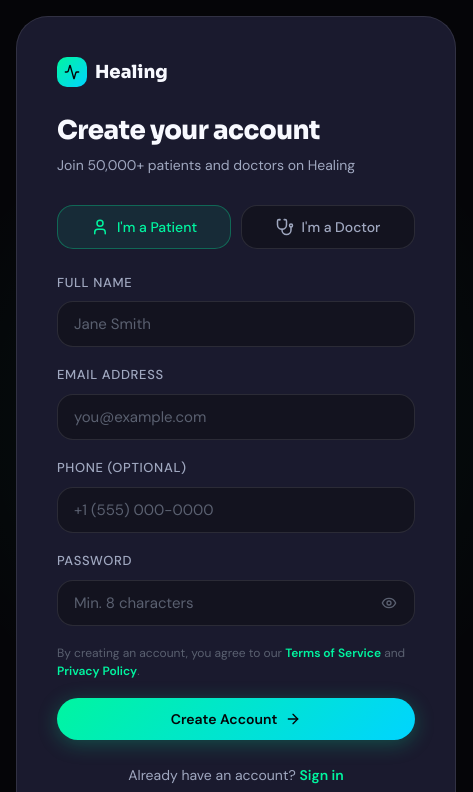
Test: RegisterPage › toggles role on click
Click the button "I'm a Doctor" at (328, 227), box [241,205,415,249]
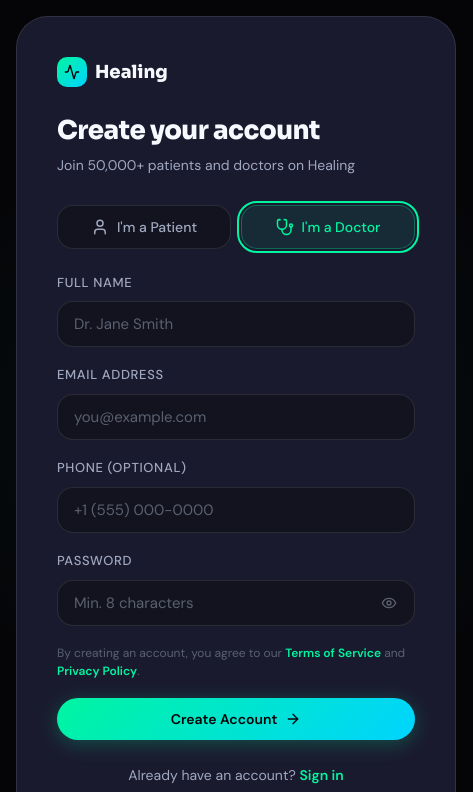
Expected: the field with placeholder "Dr. Jane Smith" is shown, [57,301,415,347]
